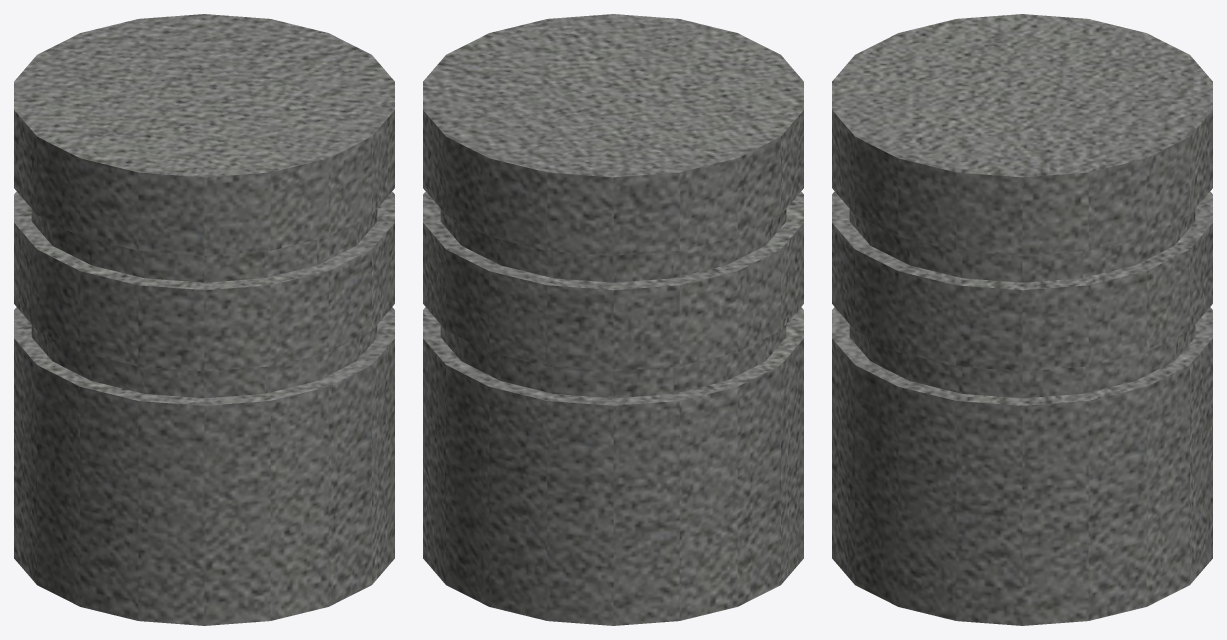
File: sm_stob_001.fbx
3 renders of one model, left to right at view 1: azimuth 30°, elevation 25°; view 2: azimuth 150°, elevation 25°; view 3: azimuth 270°, elevation 25°, orthographic.
Visible parts, largest first — view 1: sm_stob_001; view 2: sm_stob_001; view 3: sm_stob_001.
Boxes of the visible parts, x1,y1,x2,y2 form: sm_stob_001: (14,14,394,625); sm_stob_001: (423,14,803,625); sm_stob_001: (832,14,1212,625).
Bounding box in the file's own units: 0.2836 × 0.363 × 0.2793.
Materials: 1 (1 with a texture image).
